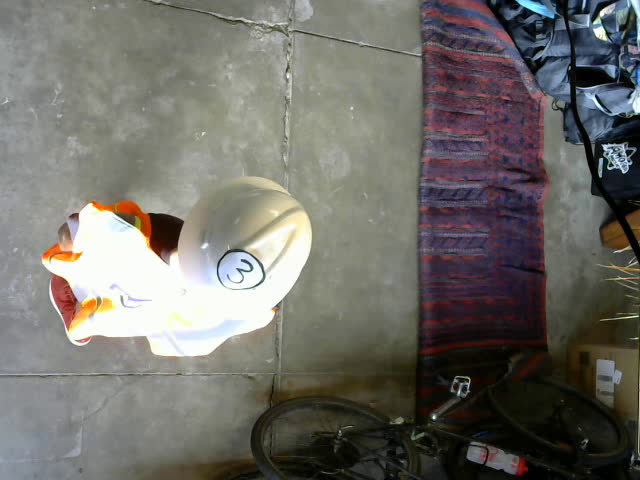three: (218, 249, 266, 291)
